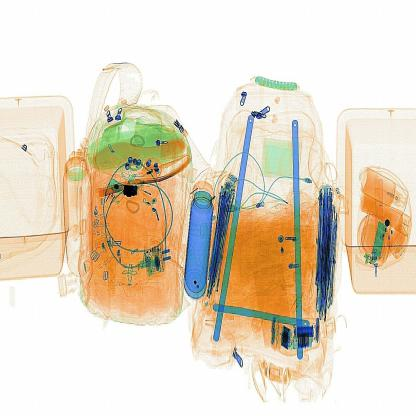scissors: (121, 176, 155, 206)
